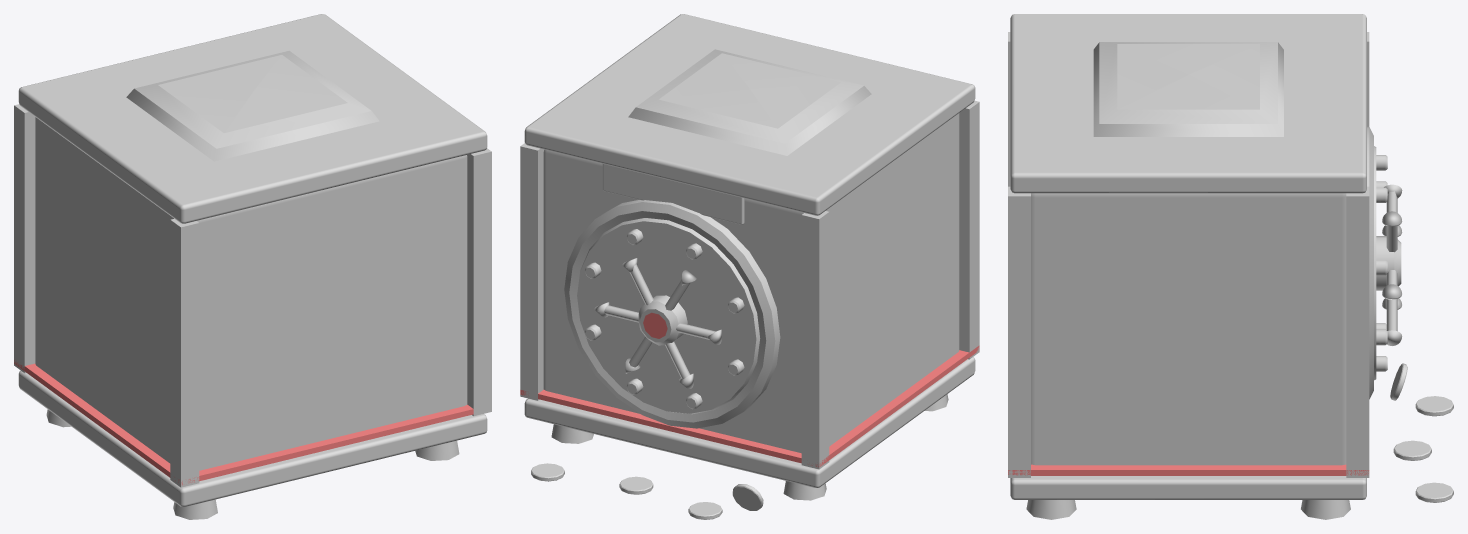
Rendered from VaultIndustrial.glb.
3 renders of one model, left to right at view 1: azimuth 30°, elevation 25°; view 2: azimuth 150°, elevation 25°; view 3: azimuth 270°, elevation 25°, orthographic. The views are drawn at different scales.
Visible parts, largest first — view 1: Body, Glow; view 2: Body, Glow; view 3: Body, Glow.
Boxes of the visible parts, x1,y1,x2,y2 form: Body: (14, 14, 491, 519); Glow: (14, 360, 473, 485); Body: (520, 14, 979, 519); Glow: (520, 312, 979, 467); Body: (1008, 14, 1453, 519); Glow: (1008, 464, 1369, 475).
Size of the model in its own units: 8.5 by 9.04 by 9.75.
